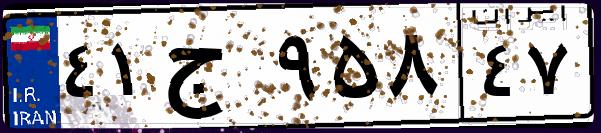1: (110, 28, 158, 98)
4: (57, 26, 110, 100), (475, 38, 525, 113)
5: (330, 28, 385, 110)
7: (525, 38, 570, 115)
8: (385, 28, 445, 110)
9: (270, 28, 330, 110)
ج: (158, 20, 270, 120)
